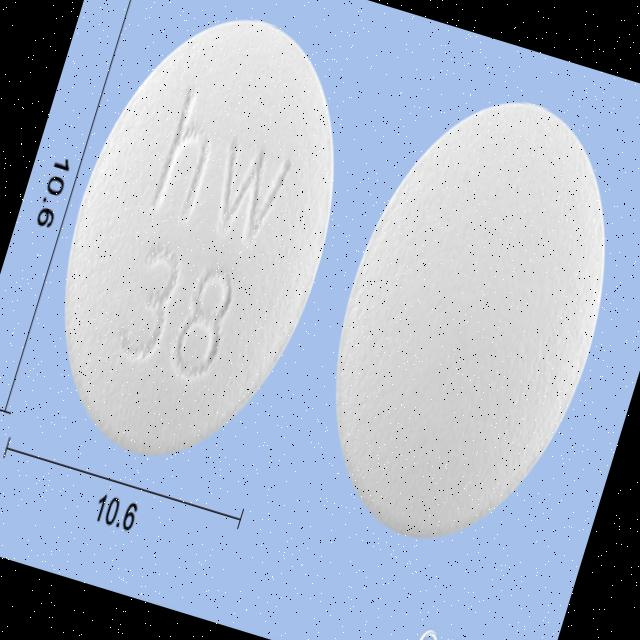Cirokan: (9, 0, 390, 498), (280, 63, 640, 576)
